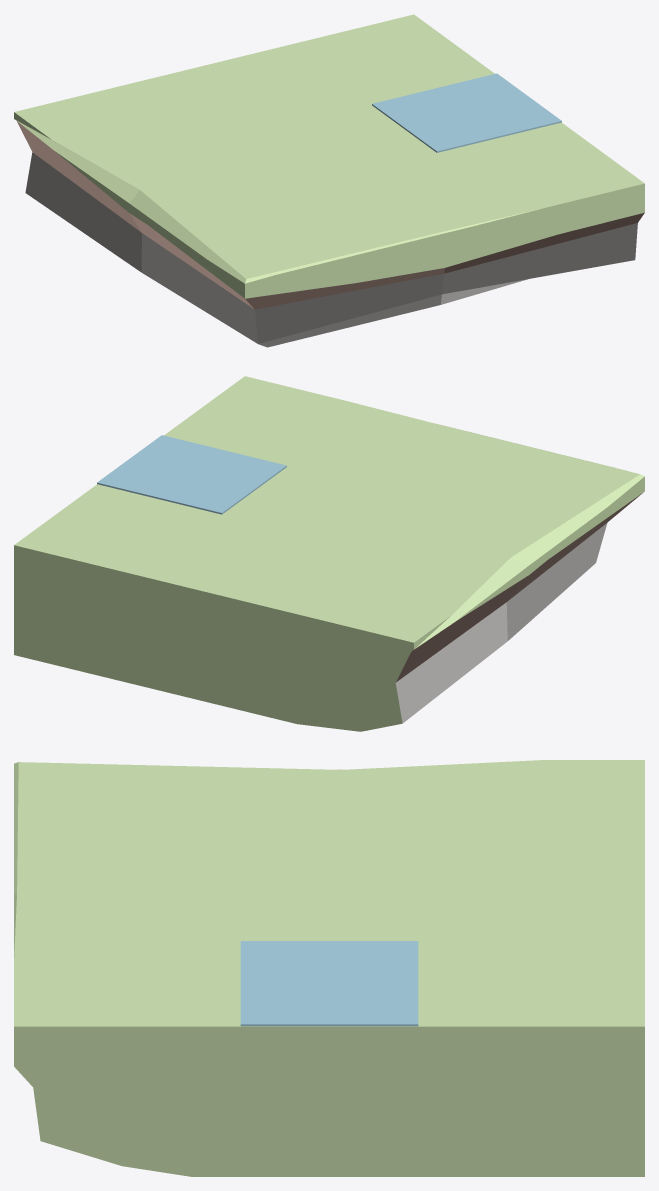
File: chunk_-1_-1.glb
The picture shows the model from 3 angles, top to bottom: view 1: azimuth 30°, elevation 25°; view 2: azimuth 150°, elevation 25°; view 3: azimuth 270°, elevation 25°; orthographic projection. The views are drawn at different scales.
Visible parts, largest first — view 1: chunk_-1_-1_0, chunk_-1_-1_1; view 2: chunk_-1_-1_0, chunk_-1_-1_1; view 3: chunk_-1_-1_0, chunk_-1_-1_1.
Boxes of the visible parts, box(x1,y1,x2,y2) form: chunk_-1_-1_0: box(14, 14, 644, 347); chunk_-1_-1_1: box(372, 73, 561, 152); chunk_-1_-1_0: box(14, 376, 644, 731); chunk_-1_-1_1: box(97, 435, 286, 514); chunk_-1_-1_0: box(14, 760, 644, 1176); chunk_-1_-1_1: box(240, 941, 418, 1026).
Size of the model in its own units: 32 by 8.54 by 32.
